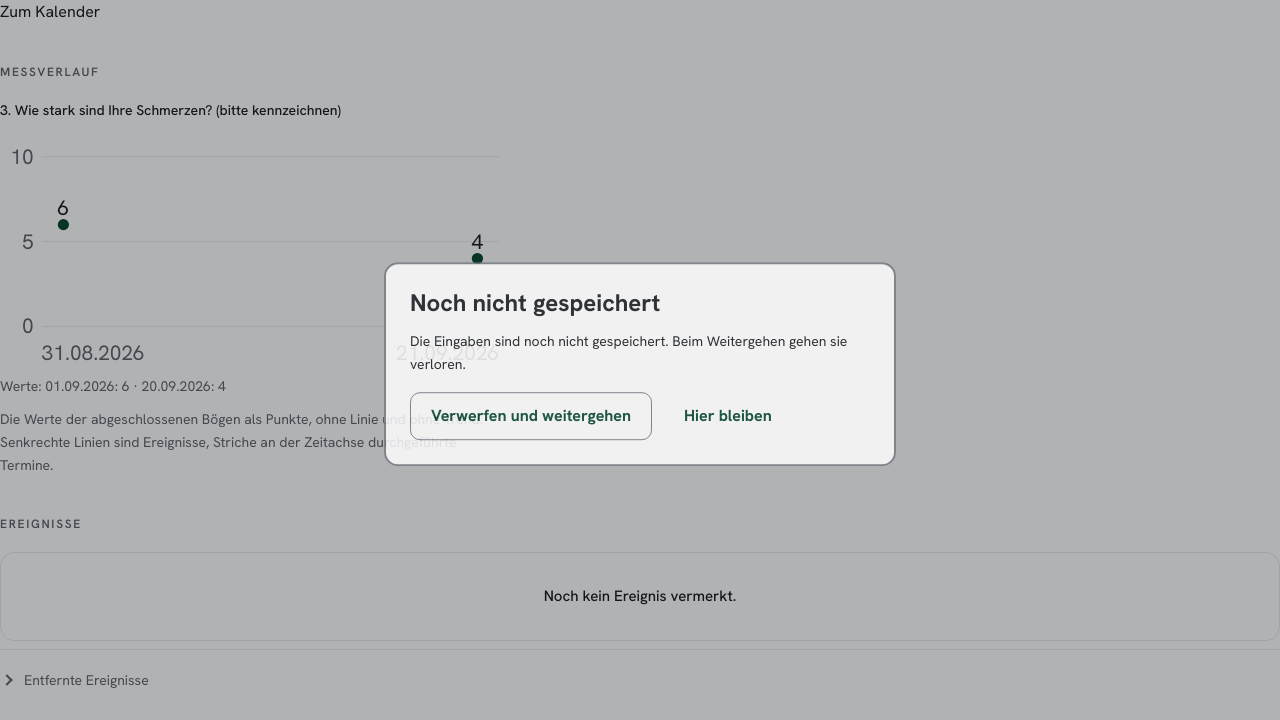
it: Messverlauf › lädt entfernte Ereignisse erst beim Aufklappen und nennt, wer wann entfernt hat (BEF-102)
What coordinates should you click on to do the following:
click the heading "Entfernte Ereignisse"
I would click on:
 (75, 680)
Its box is [1,671,149,689].
(page scrolled)
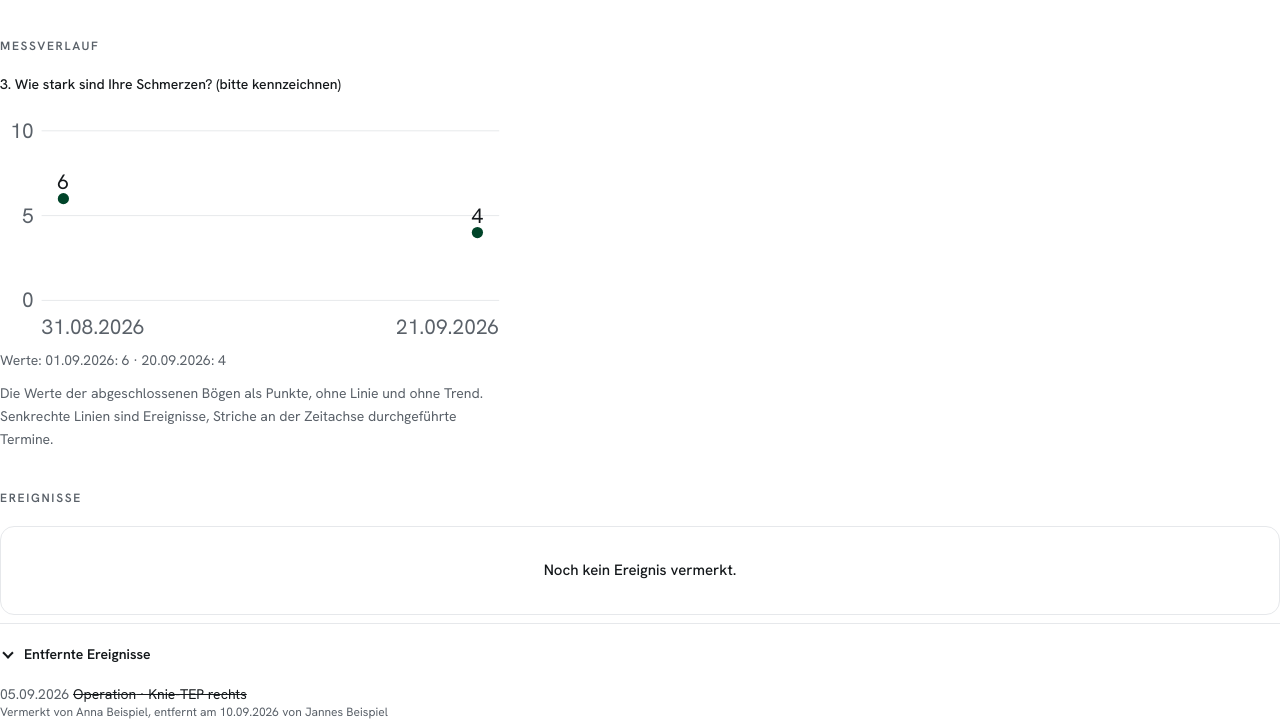
Now the text "Operation · Knie-TEP rechts" is shown, box [73,685,247,703]
Now the text "Vermerkt von Anna Beispiel, entfernt am 10.09.2026 von Jannes Beispiel" is shown, box [0,704,388,719]
